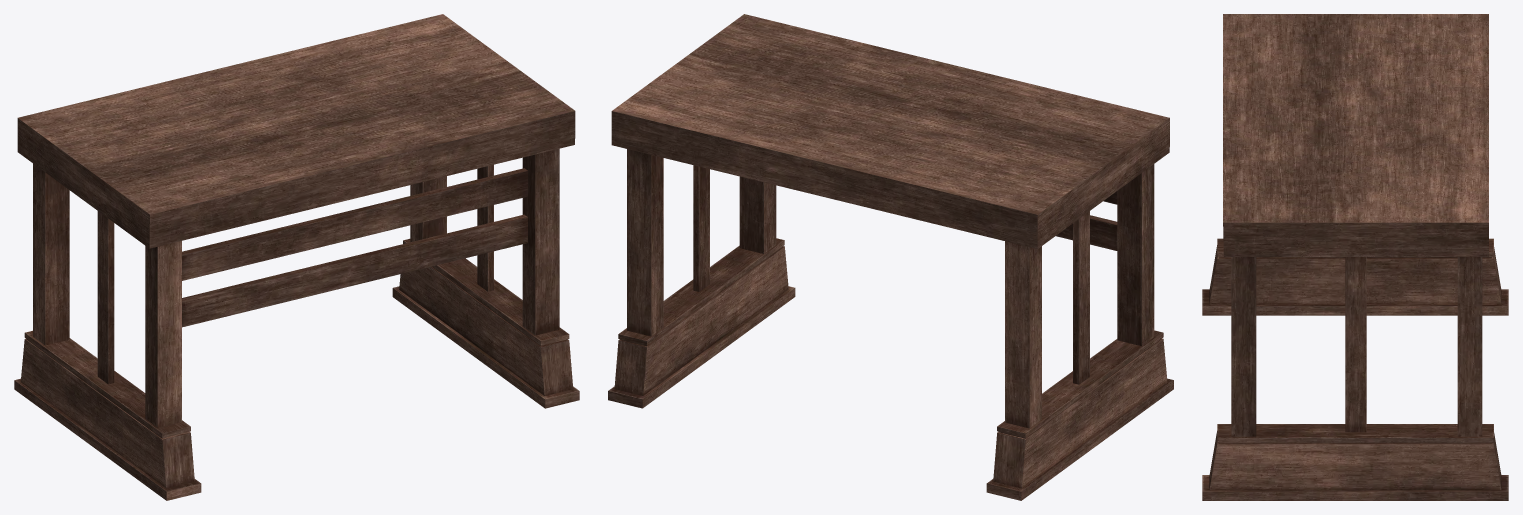
The model's file is Furn_BigTable.glb.
The picture shows the model from 3 angles, left to right: view 1: azimuth 30°, elevation 25°; view 2: azimuth 150°, elevation 25°; view 3: azimuth 270°, elevation 25°; orthographic projection.
Visible parts, largest first — view 1: Furn_BigTable; view 2: Furn_BigTable; view 3: Furn_BigTable.
Part boxes in pixels (x1=…): Furn_BigTable: x1=14, y1=14, x2=579, y2=500; Furn_BigTable: x1=608, y1=14, x2=1173, y2=500; Furn_BigTable: x1=1202, y1=14, x2=1508, y2=500.
Bounding box in the file's own units: 1.19 × 0.7492 × 0.7384.
Materials: 1 (1 with a texture image).
